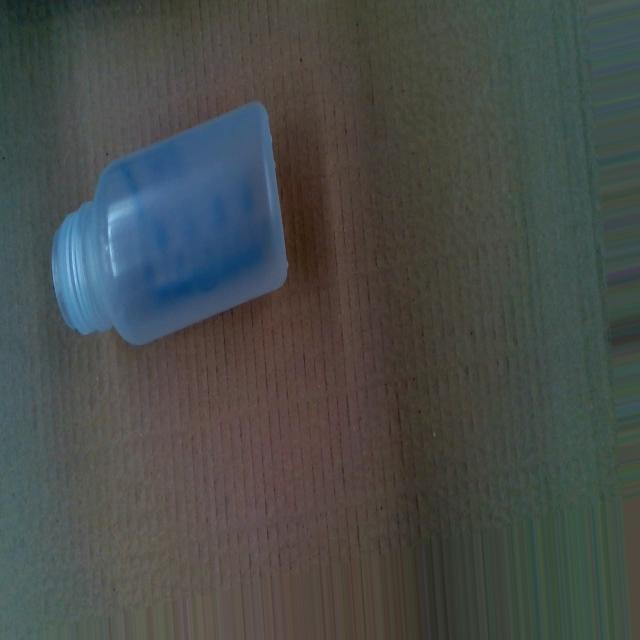bottle: (48, 94, 291, 350)
